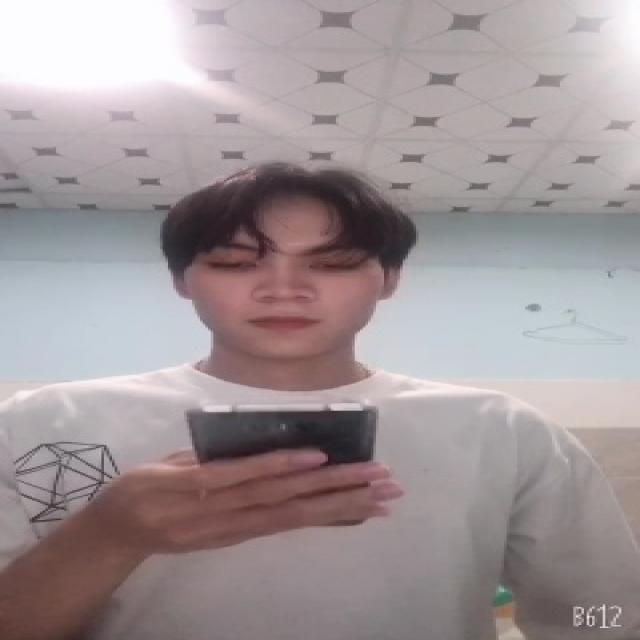Phone: (184, 401, 382, 468)
